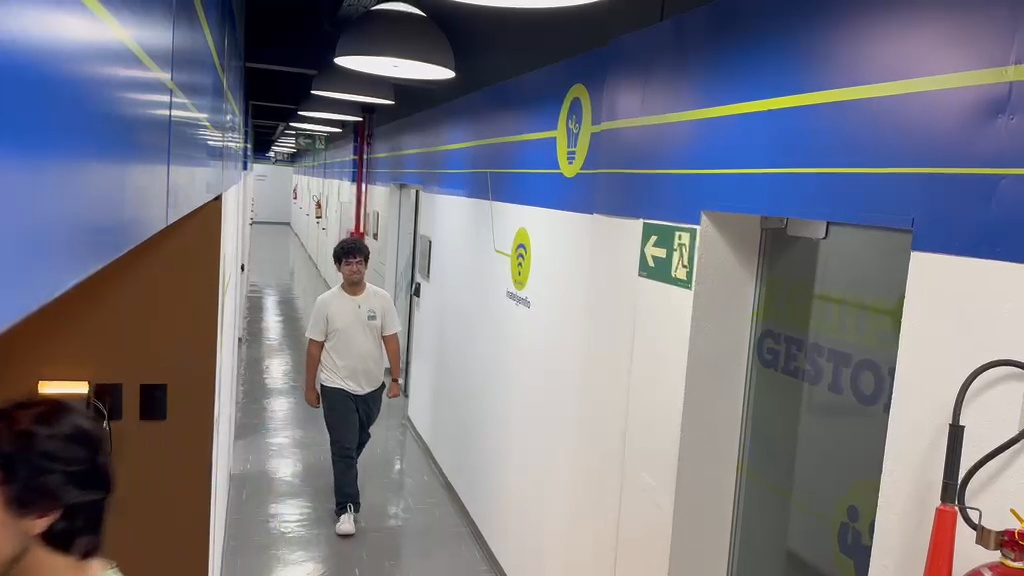person: (303, 236, 402, 538), (1, 395, 121, 572)
